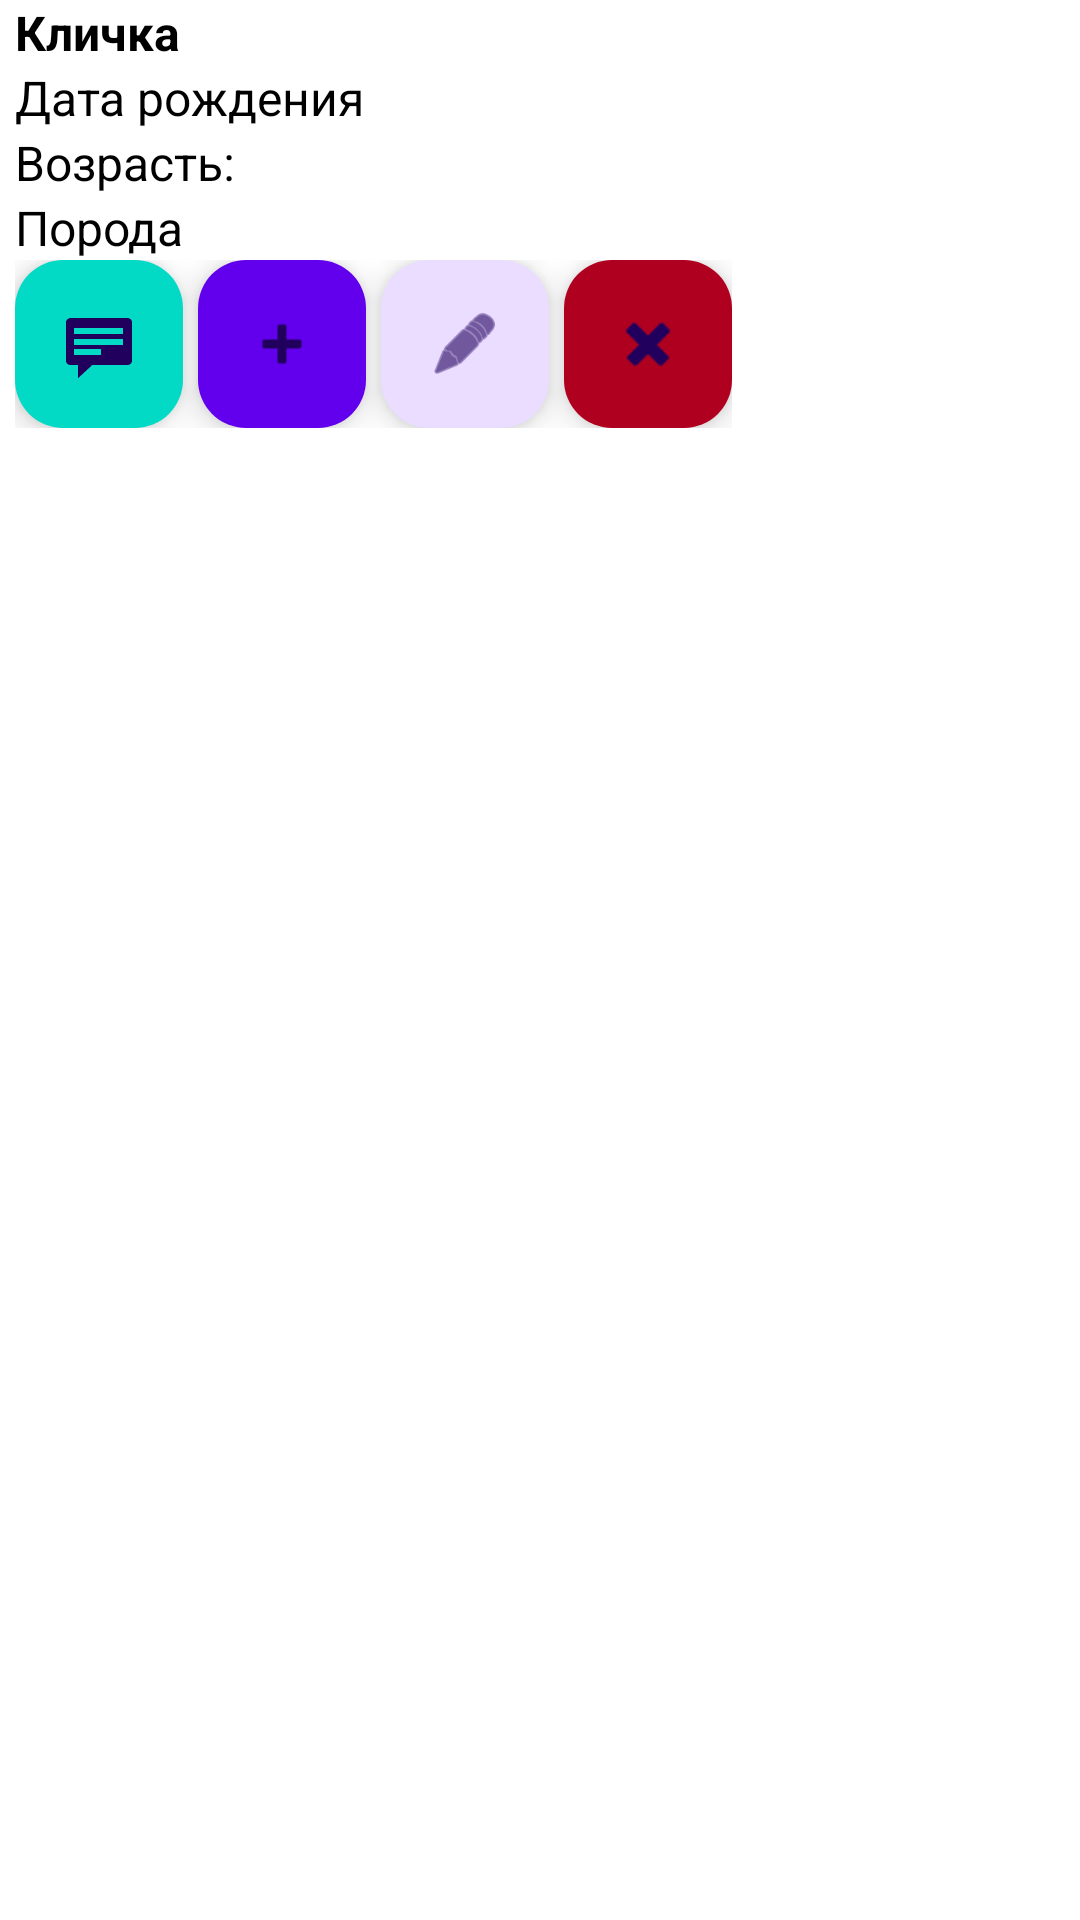

Screen size 1080w x 1920h. Icon name, then its center in pixels as point (x, y):
add: point (282, 344)
chat: point (99, 344)
delete: point (648, 344)
edit: point (465, 344)
